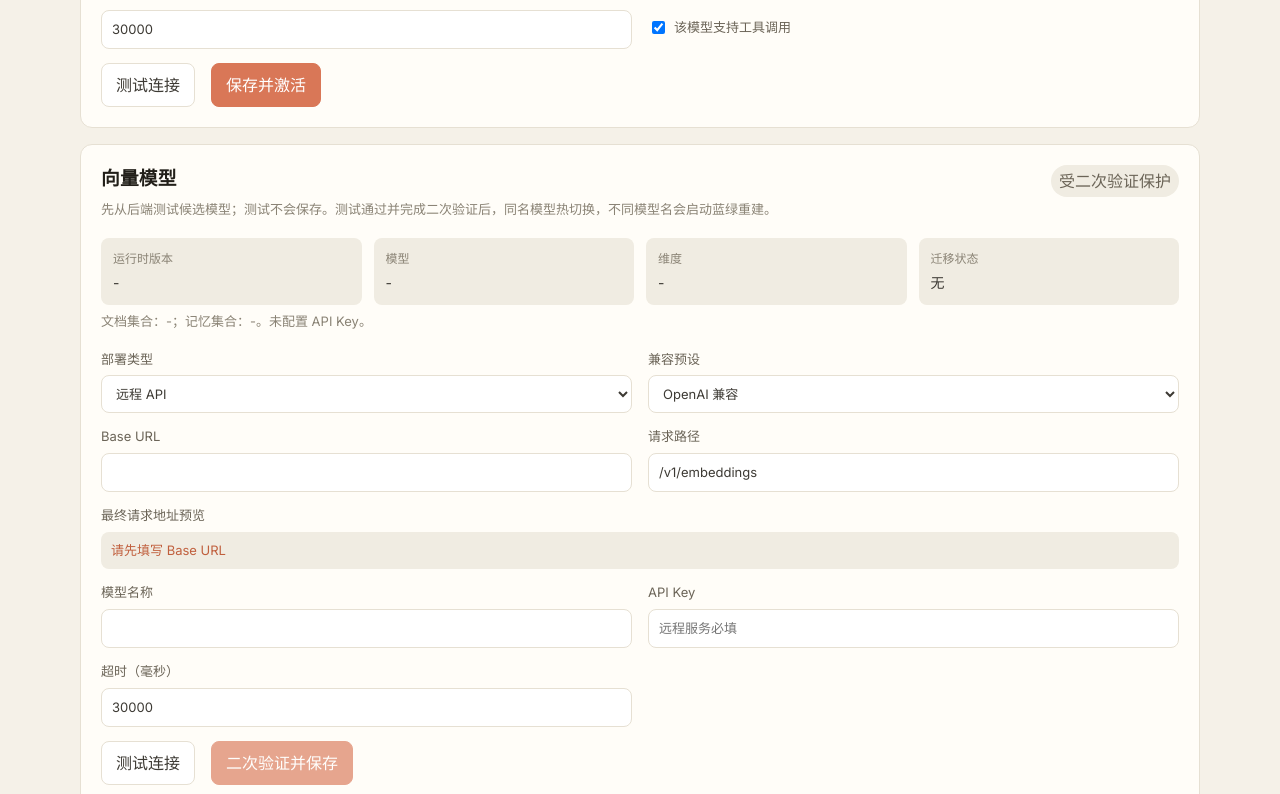
AdminModelConfigView › does not ask a local embedding model for an API Key
(page scrolled)
Select "本地服务" in the dropdown labelled "部署类型": {"x": 366, "y": 394} [101,375,632,413]
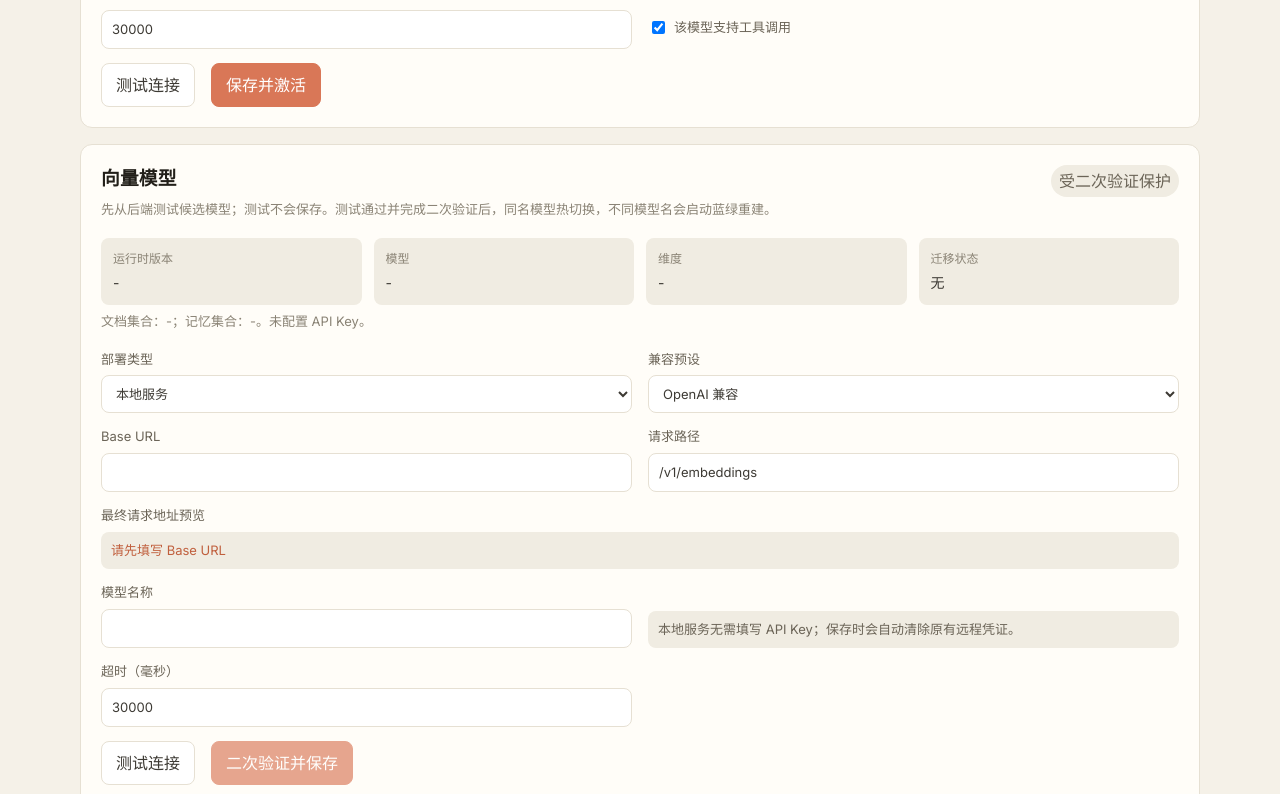
Result: the text "本地服务无需填写 API Key；保存时会自动清除原有远程凭证。" is shown at [648,611,1179,648]
